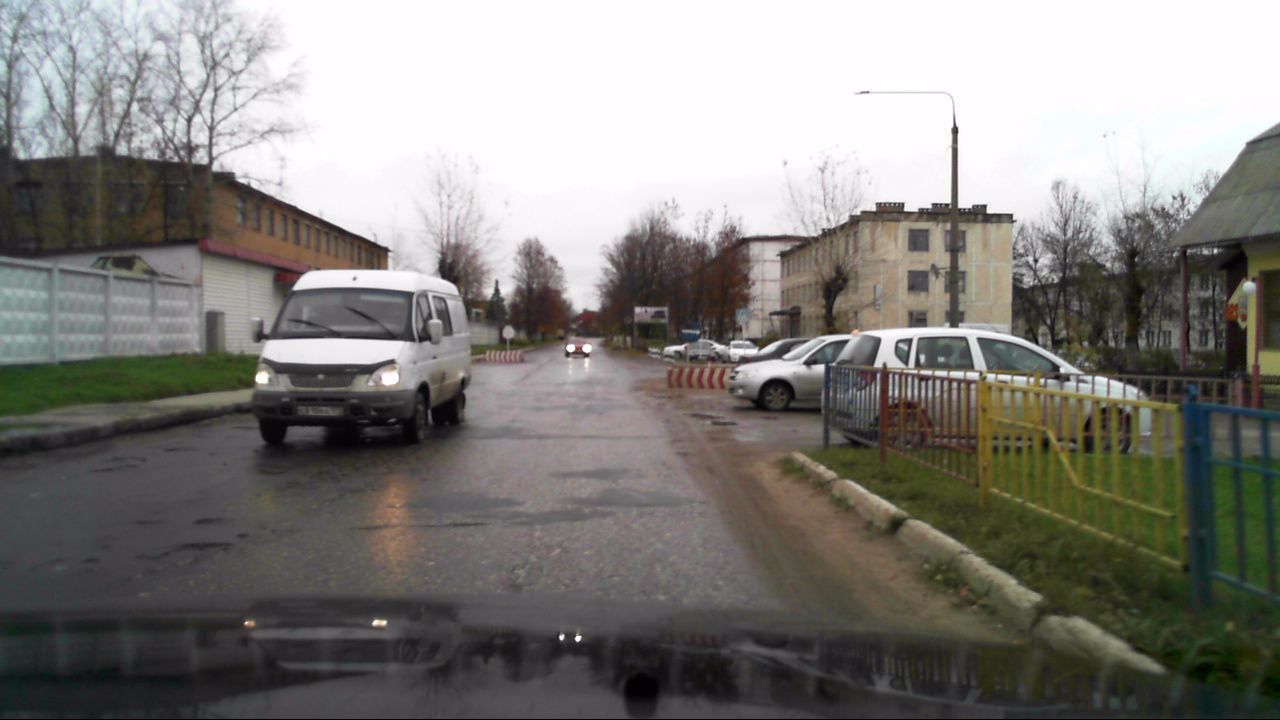Turn Right: (679, 322, 702, 342)
